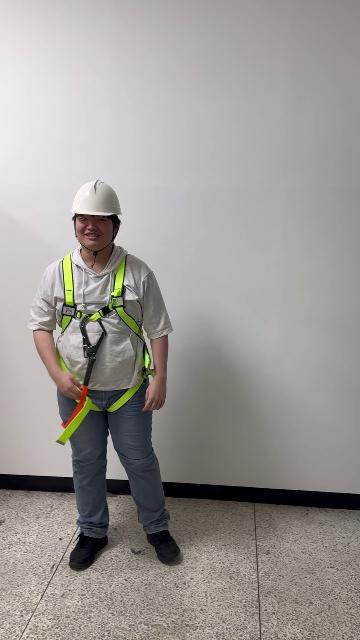helmet_worn: (70, 178, 124, 216)
shoe_not_worn: (68, 530, 108, 568), (145, 529, 179, 564)
vest_worn: (49, 255, 156, 442)
